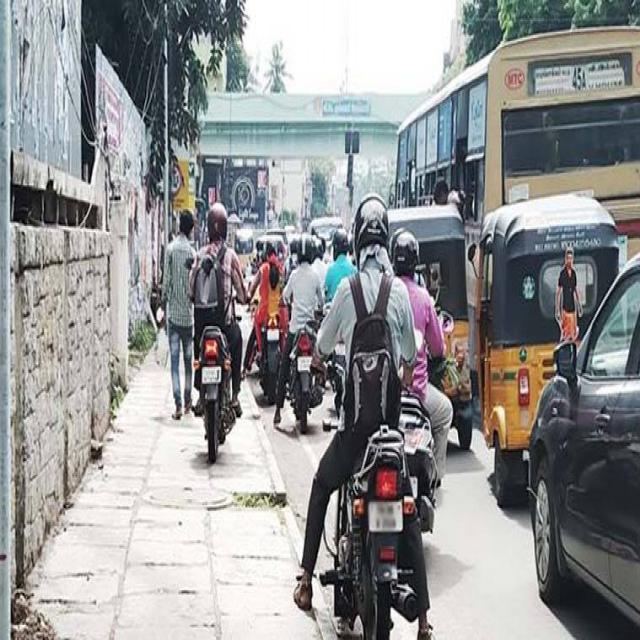motorcycle: (315, 347, 430, 636), (193, 319, 233, 455), (281, 304, 324, 430)
